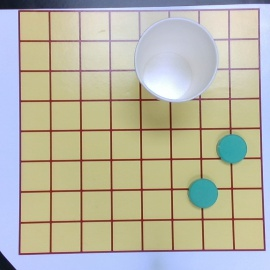cup: (135, 18, 219, 101)
green: (217, 134, 247, 164), (189, 178, 218, 208)
